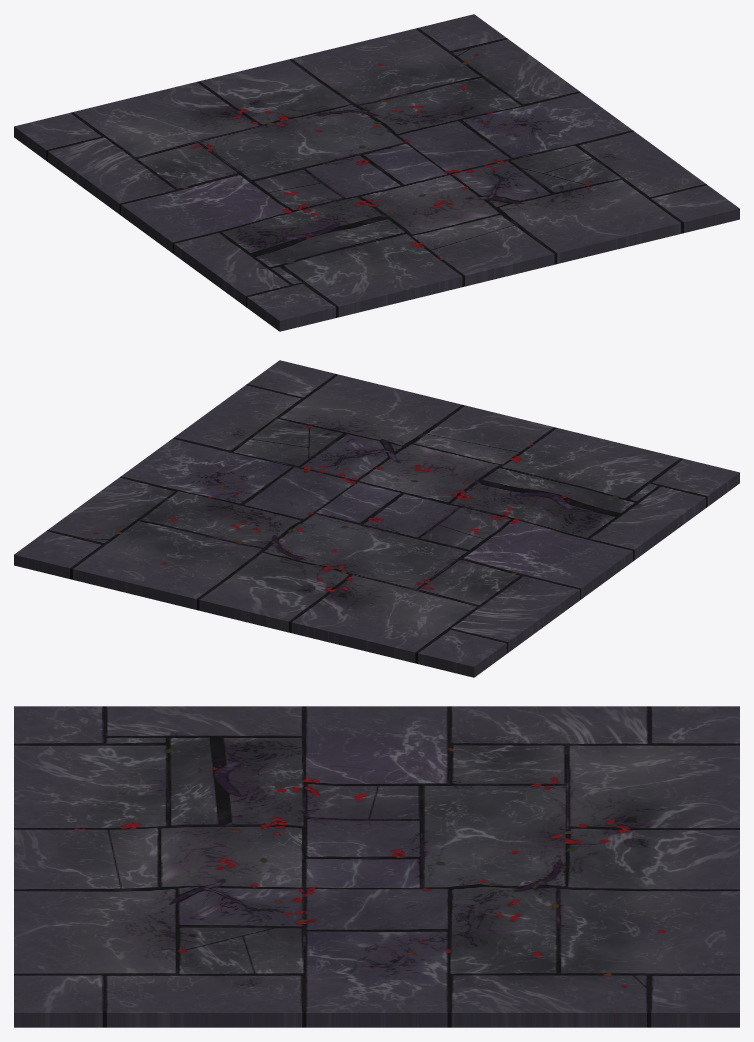
File: thorn_floor_a.glb
3 renders of one model, top to bottom at view 1: azimuth 30°, elevation 25°; view 2: azimuth 150°, elevation 25°; view 3: azimuth 270°, elevation 25°, orthographic. The views are drawn at different scales.
Parts seen in each view (by area): view 1: thorn_floor_a; view 2: thorn_floor_a; view 3: thorn_floor_a.
Part boxes in pixels (x1,y1,x2,y2): thorn_floor_a: (14,14,739,331); thorn_floor_a: (14,360,739,677); thorn_floor_a: (14,706,739,1027).
Bounding box in the file's own units: 4 × 0.1376 × 4.
Materials: 1 (1 with a texture image).
